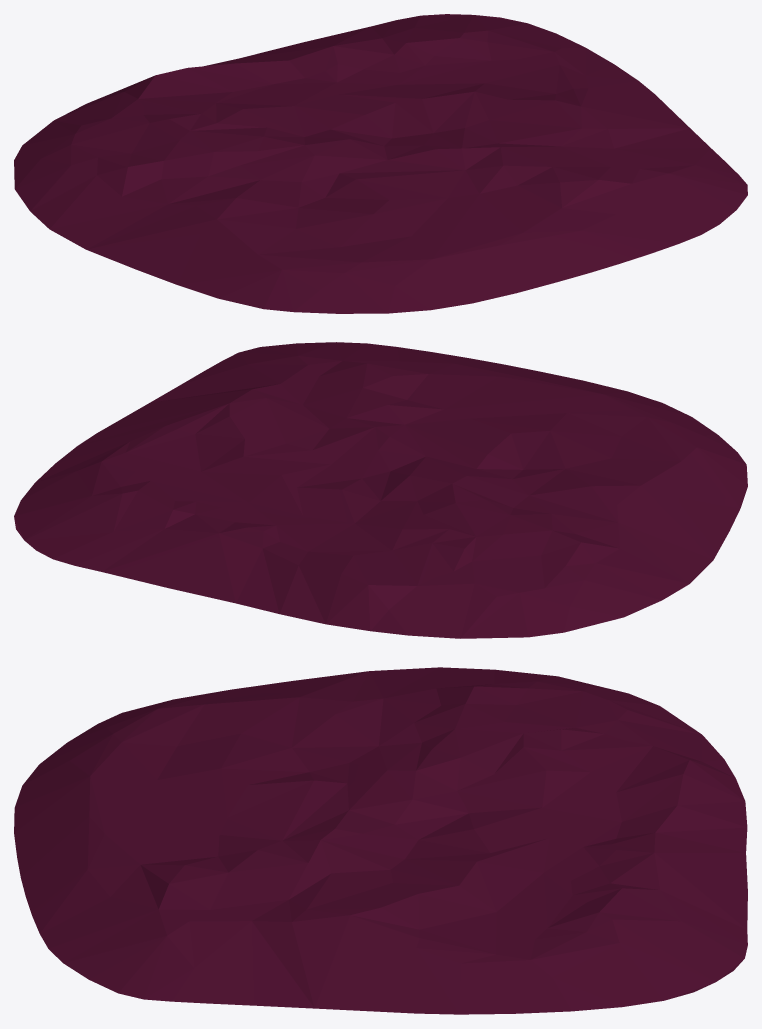
The model's file is land_006.fbx.
3 views of the same model, one above another, from view 1: azimuth 30°, elevation 25°; view 2: azimuth 150°, elevation 25°; view 3: azimuth 270°, elevation 25° (orthographic). The views are drawn at different scales.
Visible parts, largest first — view 1: land_006; view 2: land_006; view 3: land_006.
Boxes of the visible parts, bbox=[...] form: land_006: bbox=[14, 14, 747, 313]; land_006: bbox=[14, 342, 747, 638]; land_006: bbox=[14, 667, 747, 1014].
Size of the model in its own units: 4402 by 3977 by 249.
